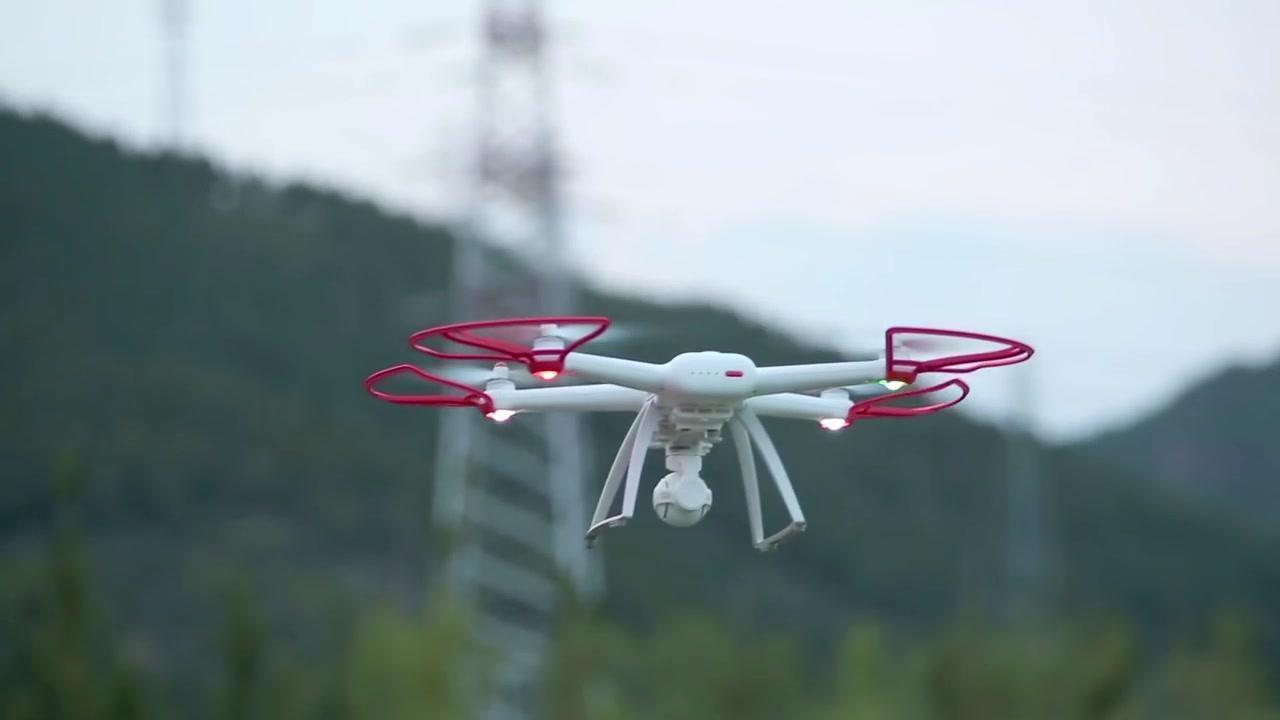UAV: (364, 317, 1034, 553)
